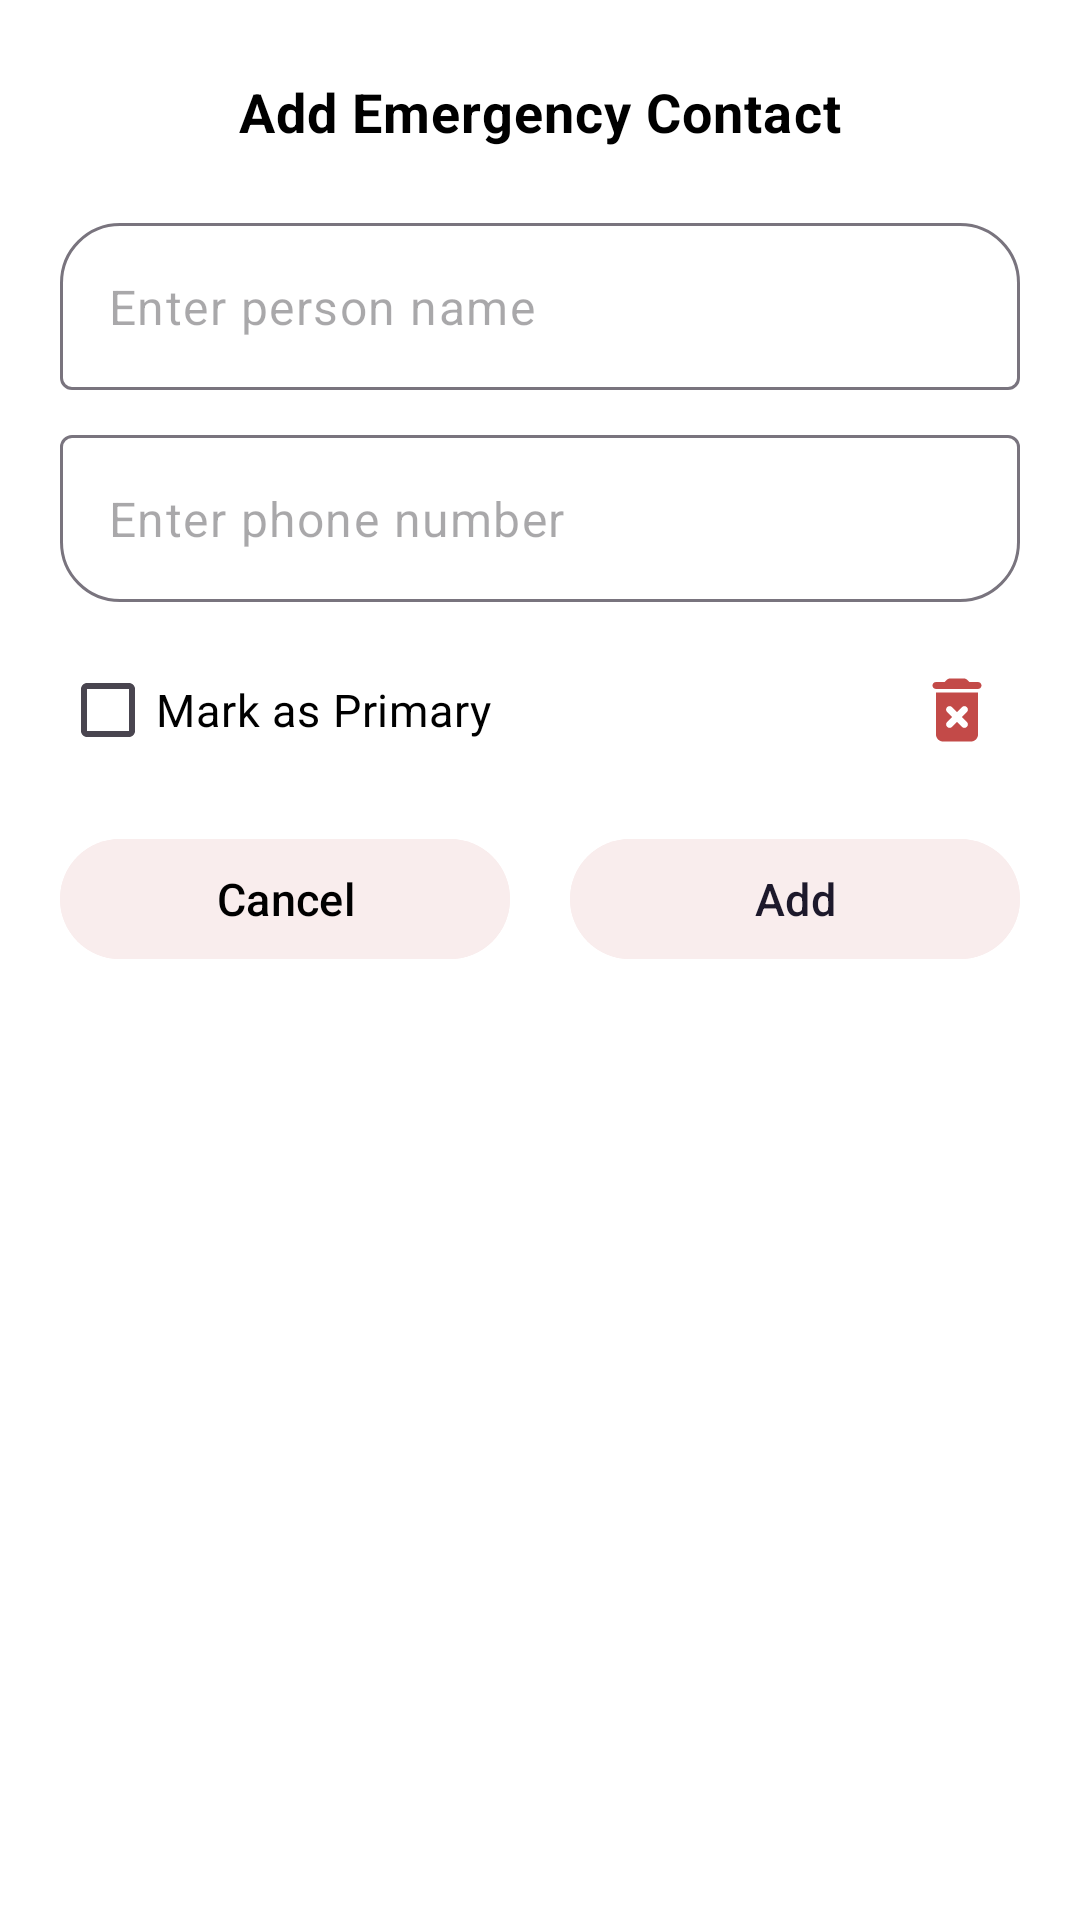

Icons on this 1080px x 1920px Android screen, each with its box as (x1,y1,x2,y2):
Contact delete button: (932,678,982,742)
